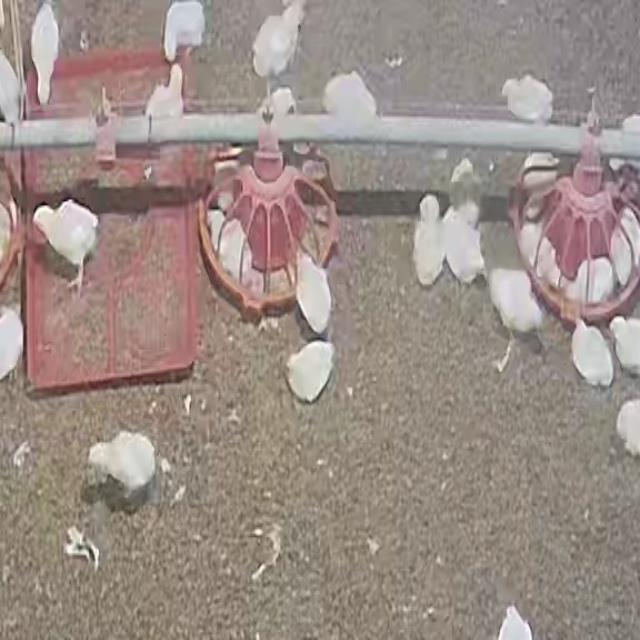chicken: (32, 199, 101, 293), (87, 431, 159, 514), (250, 0, 306, 82), (488, 266, 545, 342), (440, 204, 484, 284), (284, 339, 337, 402), (570, 318, 614, 389), (295, 252, 332, 336), (30, 1, 60, 104), (321, 72, 378, 126), (517, 221, 564, 286), (412, 195, 443, 286), (501, 74, 555, 124), (163, 0, 208, 60), (144, 64, 186, 120), (564, 258, 612, 306), (612, 206, 640, 288), (609, 315, 640, 376), (0, 308, 25, 383), (520, 152, 563, 188), (495, 604, 536, 640), (616, 397, 640, 458)
